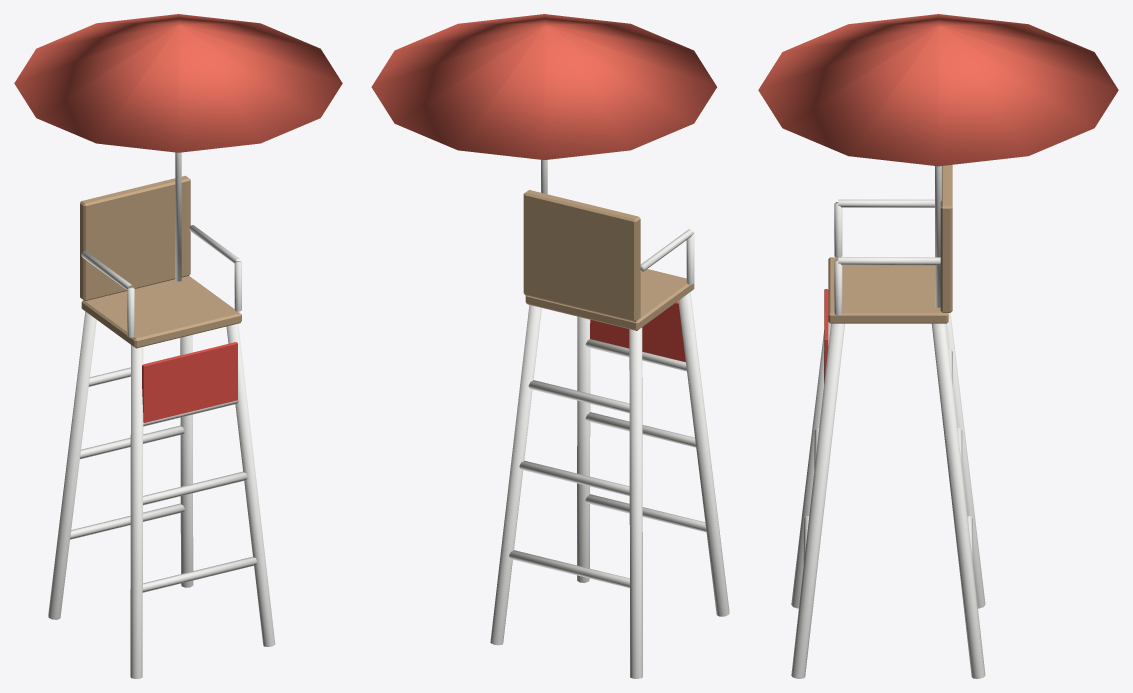
File: lifeguard_chair.glb
The picture shows the model from 3 angles, left to right: view 1: azimuth 30°, elevation 25°; view 2: azimuth 150°, elevation 25°; view 3: azimuth 270°, elevation 25°; orthographic projection. The views are drawn at different scales.
Visible parts, largest first — view 1: lifeguard_chair; view 2: lifeguard_chair; view 3: lifeguard_chair.
Boxes of the visible parts, x1=… form: lifeguard_chair: x1=14, y1=14, x2=342, y2=678; lifeguard_chair: x1=371, y1=14, x2=729, y2=678; lifeguard_chair: x1=758, y1=14, x2=1118, y2=678.
Bounding box in the file's own units: 1.8 × 3.5 × 1.8.
